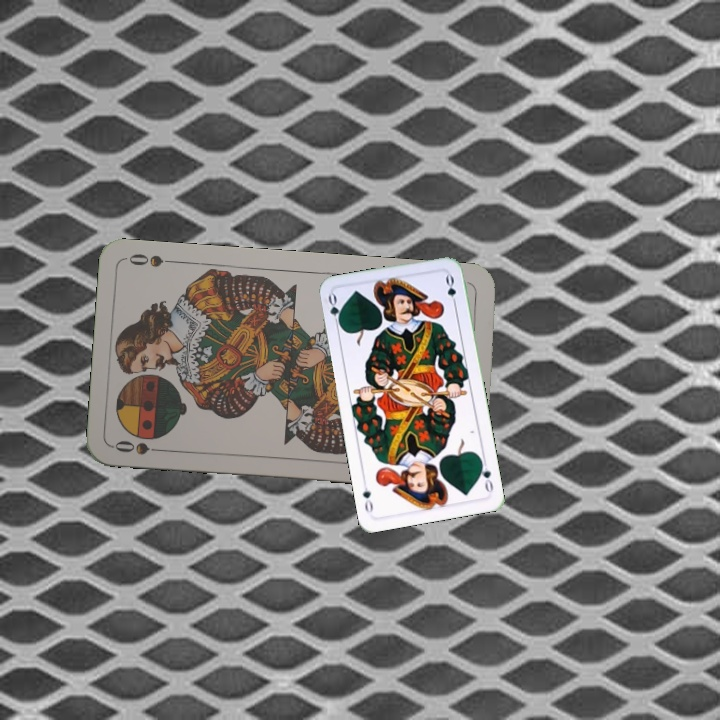GO: (324, 290, 344, 331), (476, 456, 496, 495)
SO: (110, 436, 169, 457)
